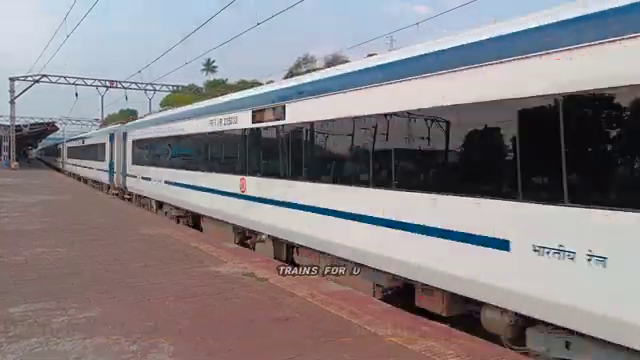Boogie: (219, 115, 242, 128)
